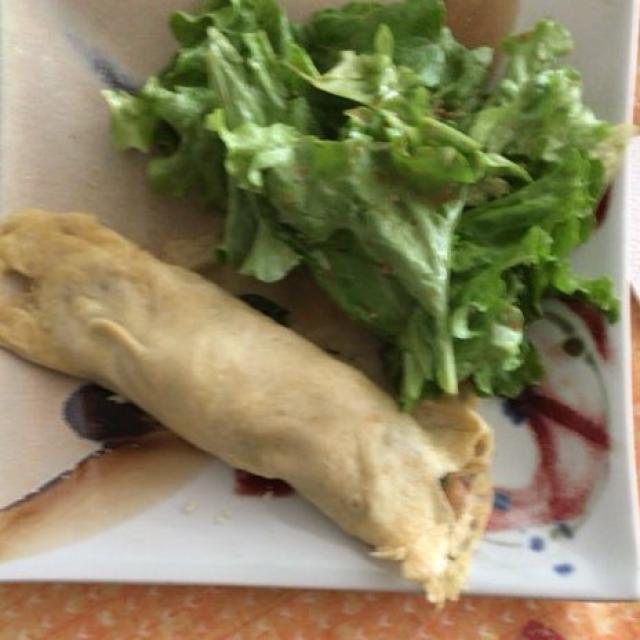crepe: (18, 218, 486, 566)
salad: (137, 3, 634, 418)
